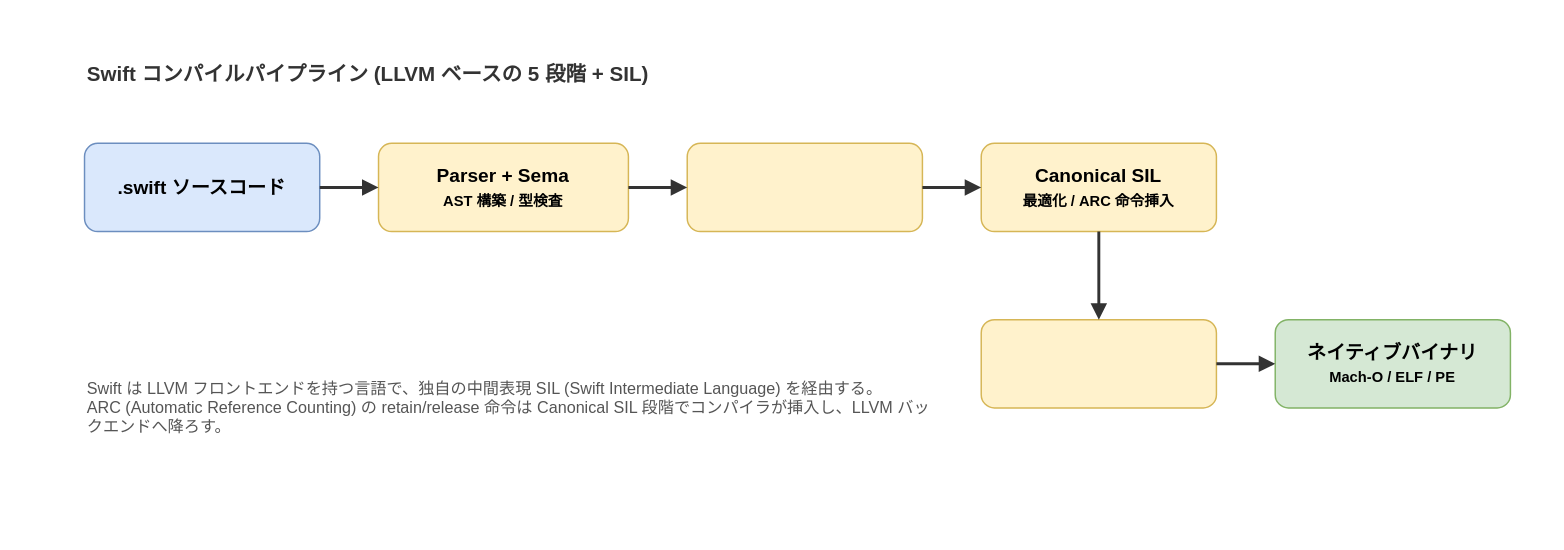
Image size: 1564x550. Some labels were removed from this diagram. Each missing label, with the box of its shape:
LLVM IR LLVM バックエンド最適化: (980, 318, 1216, 408)
Raw SIL Swift 固有の中間表現: (686, 142, 922, 232)
